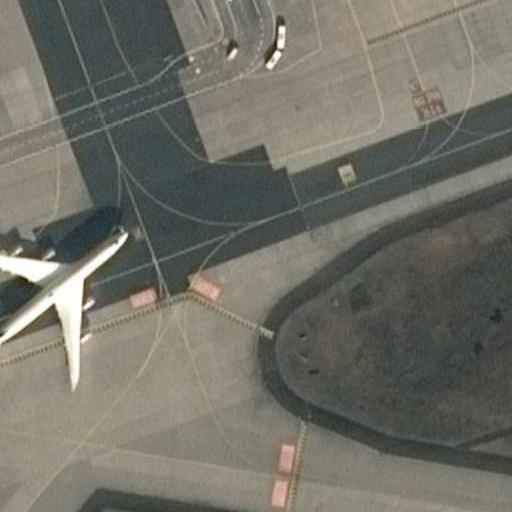Aircraft: (0, 208, 135, 386)
